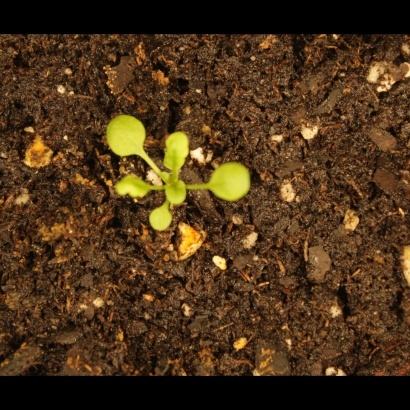leaf: (101, 111, 154, 164), (209, 160, 259, 205), (162, 126, 201, 174), (110, 168, 151, 202), (148, 204, 177, 241), (161, 181, 194, 209)
